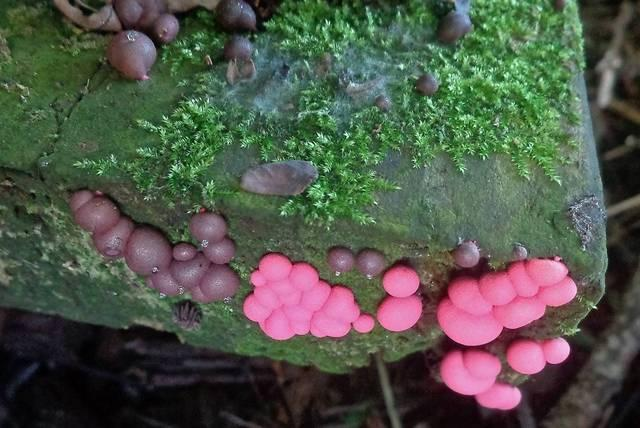poisonous_mushroom: (53, 0, 609, 412), (238, 158, 319, 197), (104, 28, 157, 81), (435, 0, 473, 43), (214, 0, 257, 32), (451, 238, 480, 268), (413, 71, 439, 96)
